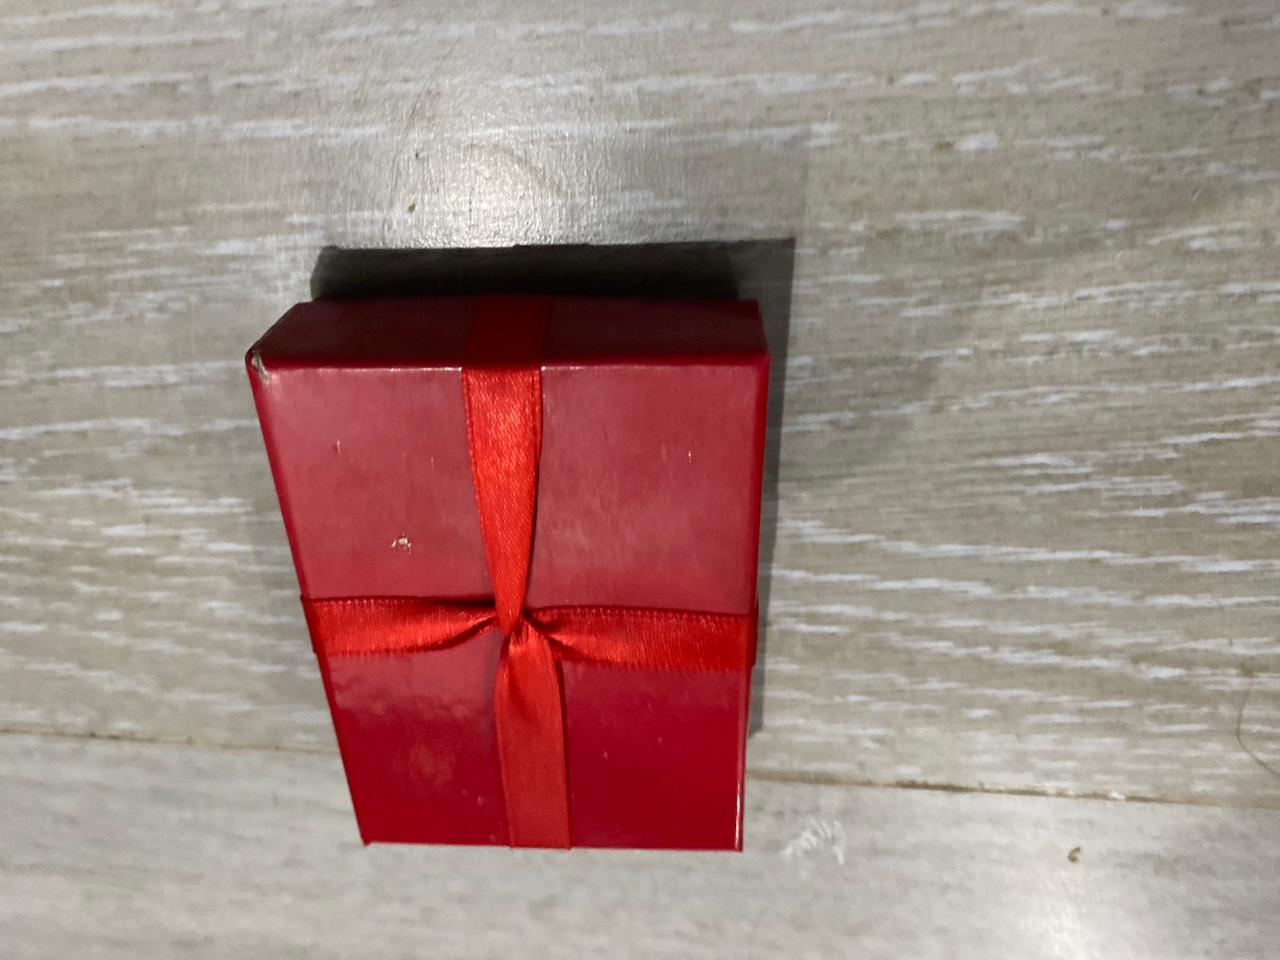Black Box: (241, 295, 769, 864)
